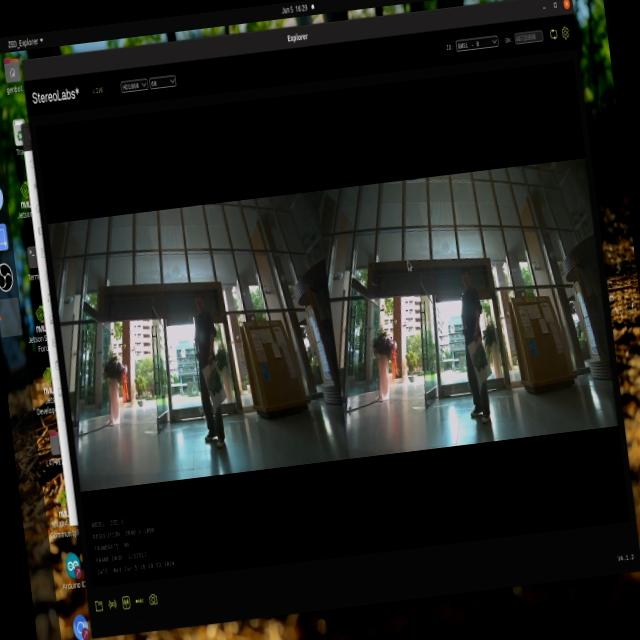green: (468, 345, 496, 379), (197, 360, 220, 397)
